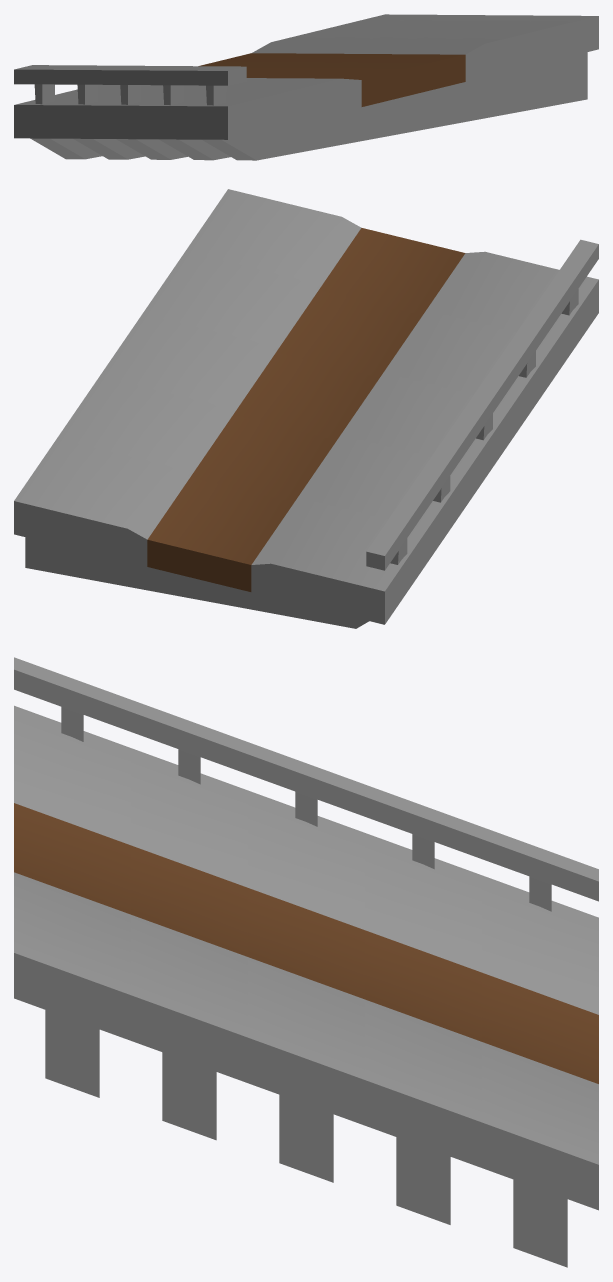
File: BlocLine5P2.FBX
The picture shows the model from 3 angles, top to bottom: view 1: azimuth 30°, elevation 25°; view 2: azimuth 150°, elevation 25°; view 3: azimuth 270°, elevation 25°; orthographic projection. The views are drawn at different scales.
Visible parts, largest first — view 1: BlocLine5P2; view 2: BlocLine5P2; view 3: BlocLine5P2.
Boxes of the visible parts, <box> form: BlocLine5P2: <box>14,14,598,160</box>; BlocLine5P2: <box>14,189,598,628</box>; BlocLine5P2: <box>14,657,598,1267</box>.
Size of the model in its own units: 5 by 3.43 by 5.
